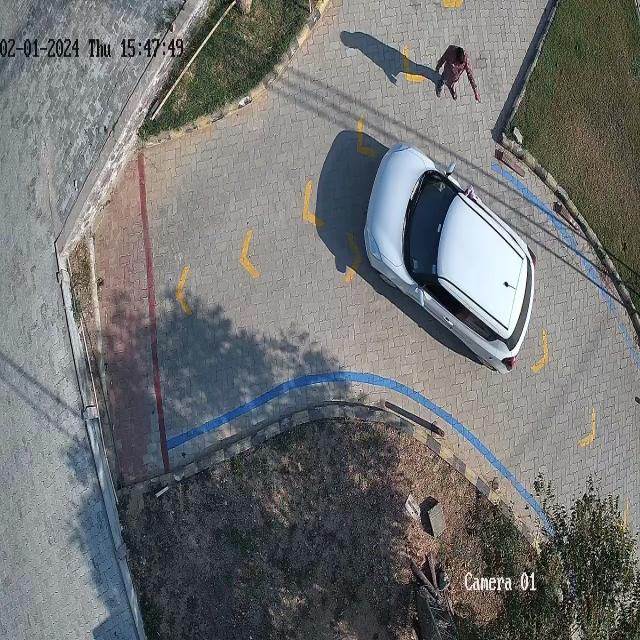car: (360, 144, 536, 370)
